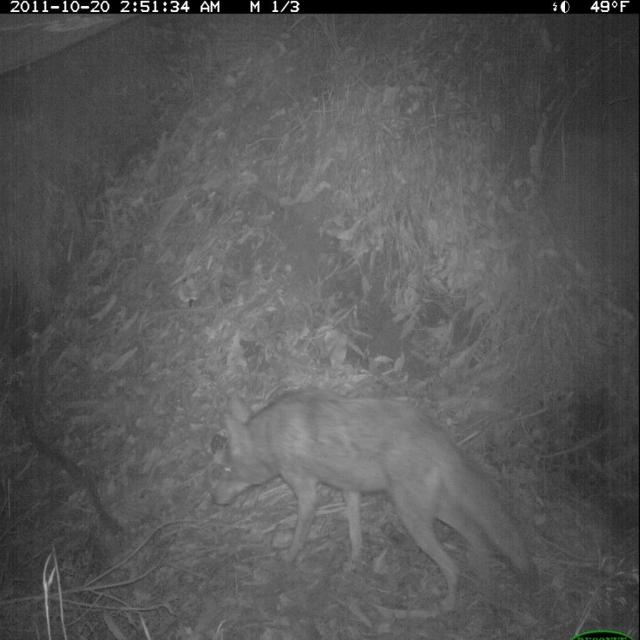coyote: (204, 376, 553, 627)
